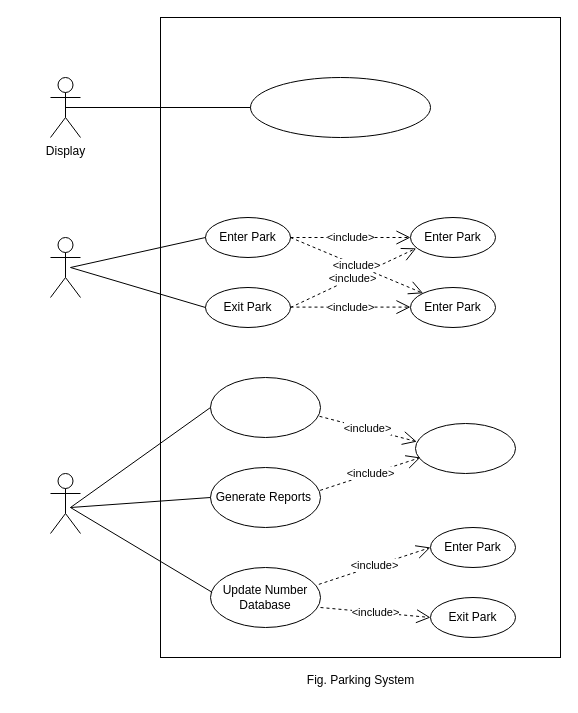
Some shapes in this 578 by 713 pixel diagram are drawn without their labels. Each missing label, with the centre of its shape:
"Building Manager" goes at [65,503].
"Configure System" goes at [265,407].
"Display Parking Space Availability" goes at [340,107].
"Divers" goes at [65,267].
"Enter & Exit Park" goes at [465,448].
